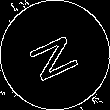N_NE: (24, 26, 86, 84)
